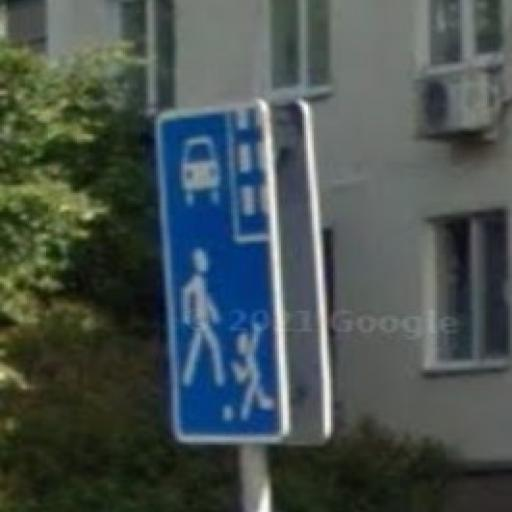traffic_sign: (155, 97, 294, 446)
